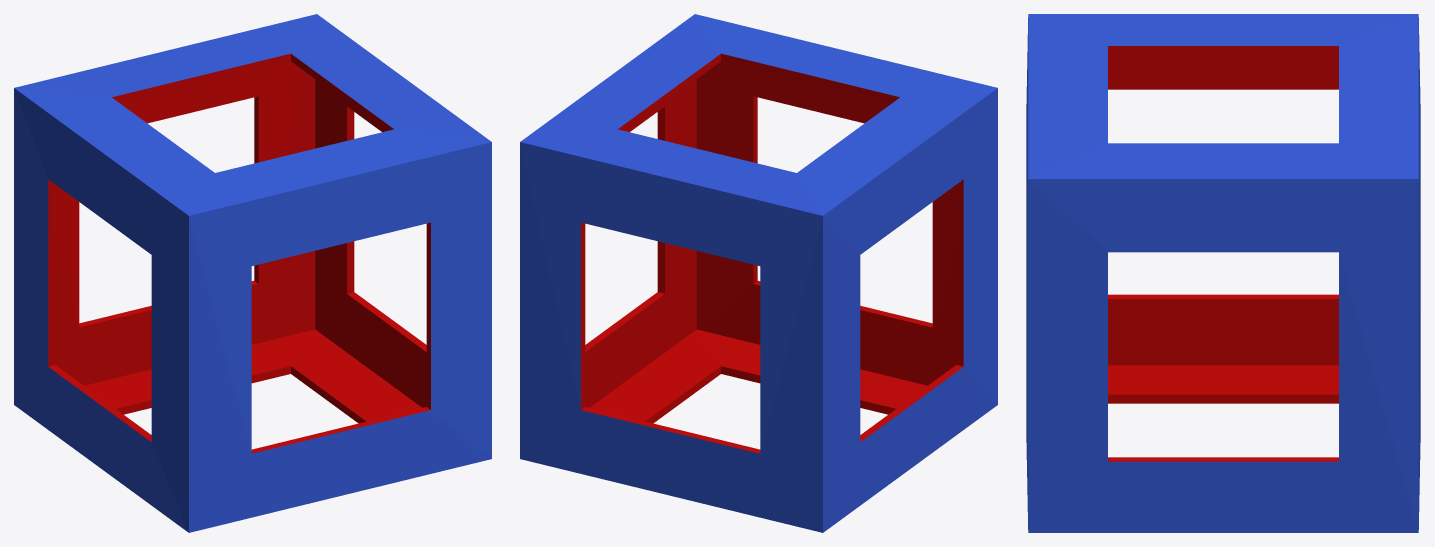
File: _CubeS1.glb
The picture shows the model from 3 angles, left to right: view 1: azimuth 30°, elevation 25°; view 2: azimuth 150°, elevation 25°; view 3: azimuth 270°, elevation 25°; orthographic projection. The views are drawn at different scales.
Parts seen in each view (by area): view 1: root; view 2: root; view 3: root.
Boxes of the visible parts, <box> form: root: <box>14,14,491,532</box>; root: <box>520,14,997,532</box>; root: <box>1026,14,1420,532</box>.
Size of the model in its own units: 1.02 by 1.03 by 1.03.
